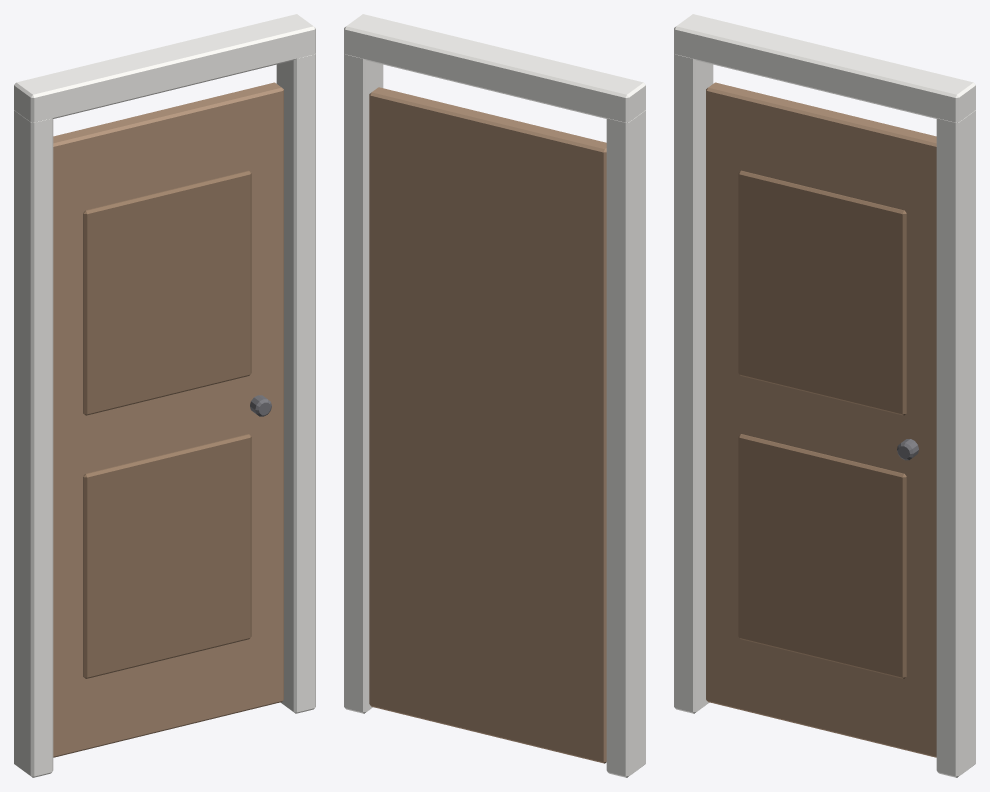
The model's file is SM_Door_Interior.fbx.
3 views of the same model, side by side, from view 1: azimuth 30°, elevation 25°; view 2: azimuth 150°, elevation 25°; view 3: azimuth 330°, elevation 25° (orthographic).
Parts seen in each view (by area): view 1: Door_Interior; view 2: Door_Interior; view 3: Door_Interior.
Part boxes in pixels (x1,y1,x2,y2): Door_Interior: (14,14,315,777); Door_Interior: (344,14,645,777); Door_Interior: (674,14,975,777).
Bounding box in the file's own units: 102 × 233 × 12.5.
